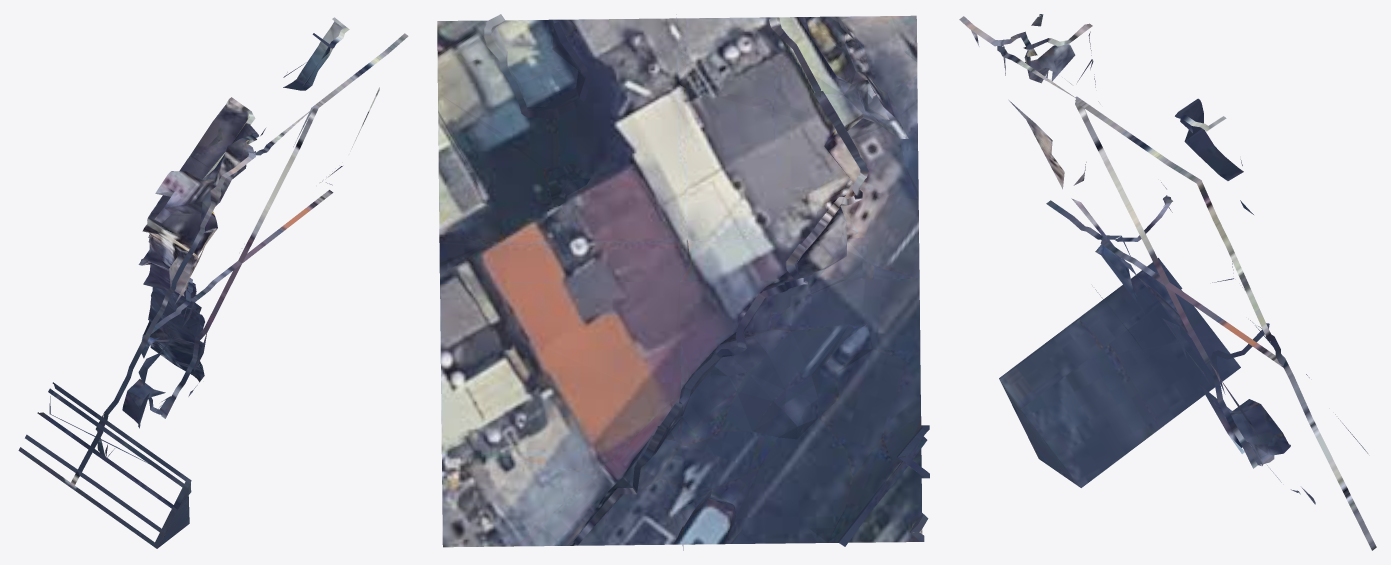
The picture shows the model from 3 angles, left to right: view 1: azimuth 30°, elevation 25°; view 2: azimuth 150°, elevation 25°; view 3: azimuth 270°, elevation 25°; orthographic projection. The views are drawn at different scales.
Bounding box in the file's own units: 41.16 × 41.56 × 31.81.
Materials: 2 (2 with a texture image).
